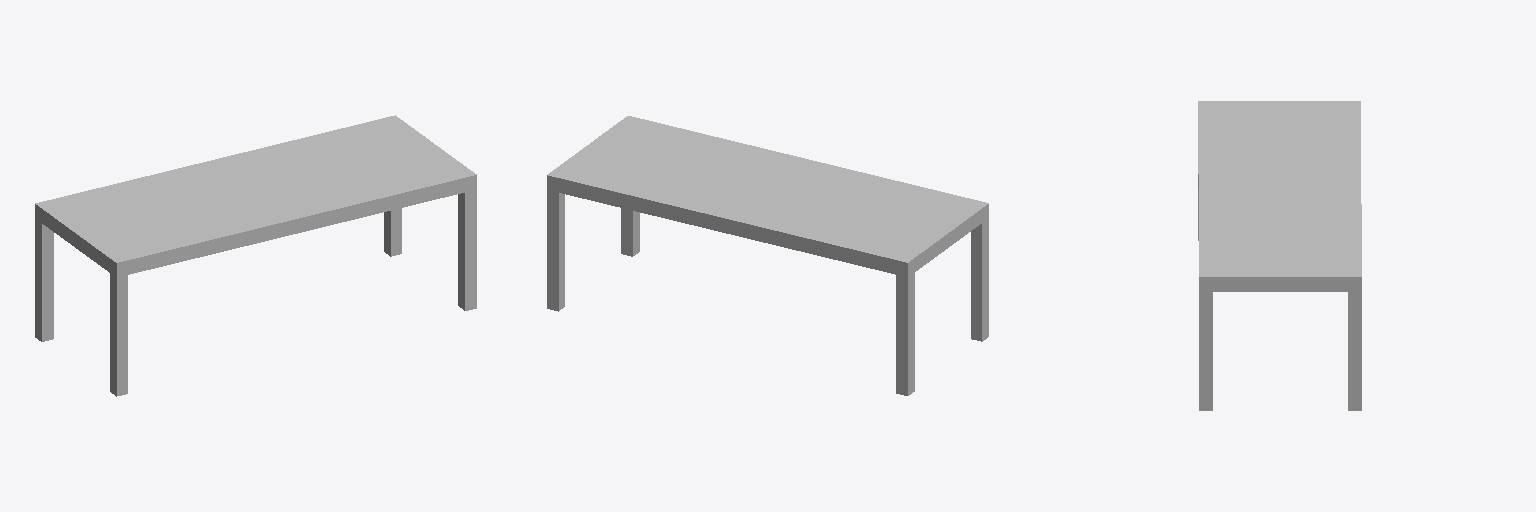
The model's file is IKEA-Lack_Black_Table-3D.obj.
3 views of the same model, side by side, from view 1: azimuth 30°, elevation 25°; view 2: azimuth 150°, elevation 25°; view 3: azimuth 270°, elevation 25° (orthographic).
Parts seen in each view (by area): view 1: Box01; view 2: Box01; view 3: Box01.
Boxes of the visible parts, x1=… form: Box01: x1=35, y1=115, x2=476, y2=396; Box01: x1=547, y1=116, x2=988, y2=395; Box01: x1=1198, y1=101, x2=1361, y2=410.
Size of the model in its own units: 1101 by 389 by 432.